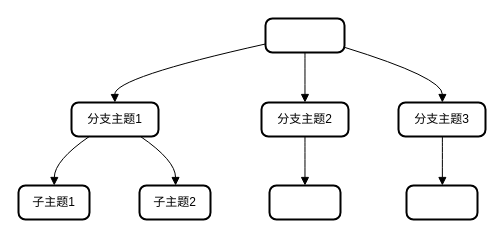
Image size: 503x237. Some labels were removed from this diagram. Each missing label, with the centre of its shape:
"中心主题" belongs at point (304, 35).
"子主题3" belongs at point (304, 202).
"子主题4" belongs at point (441, 202).
